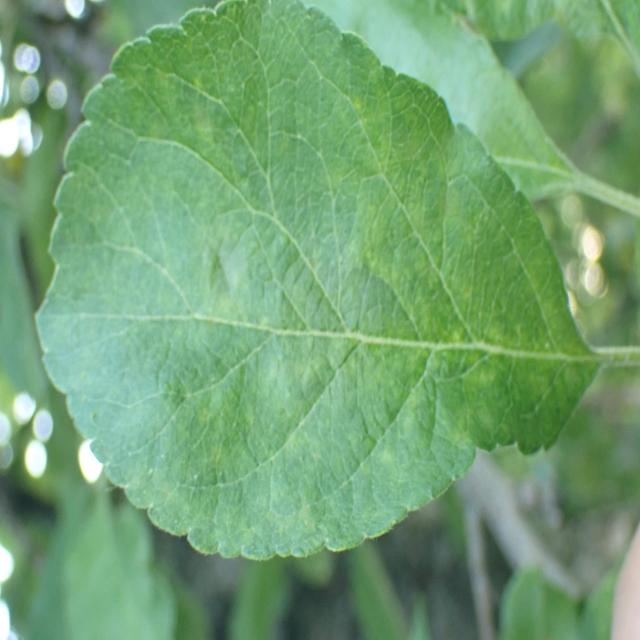scab: (72, 25, 472, 505)
